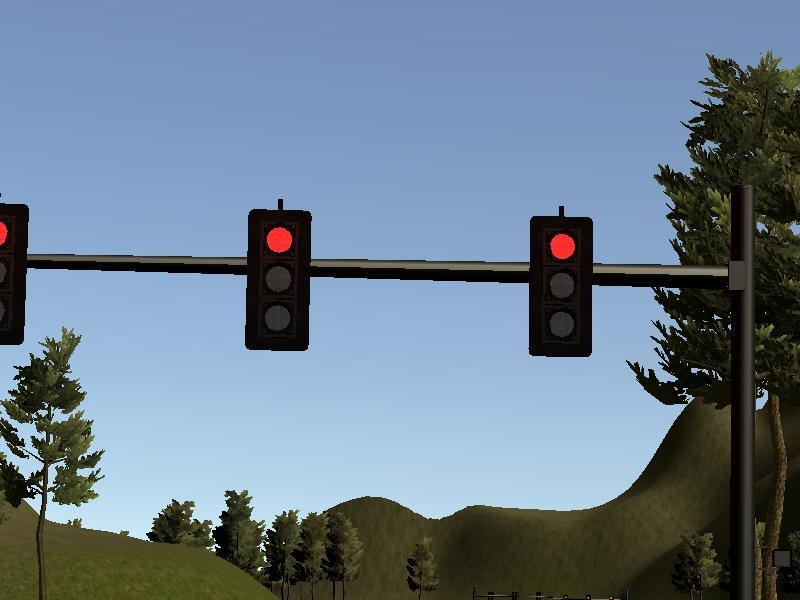Red: (246, 208, 311, 352), (529, 215, 592, 358)
